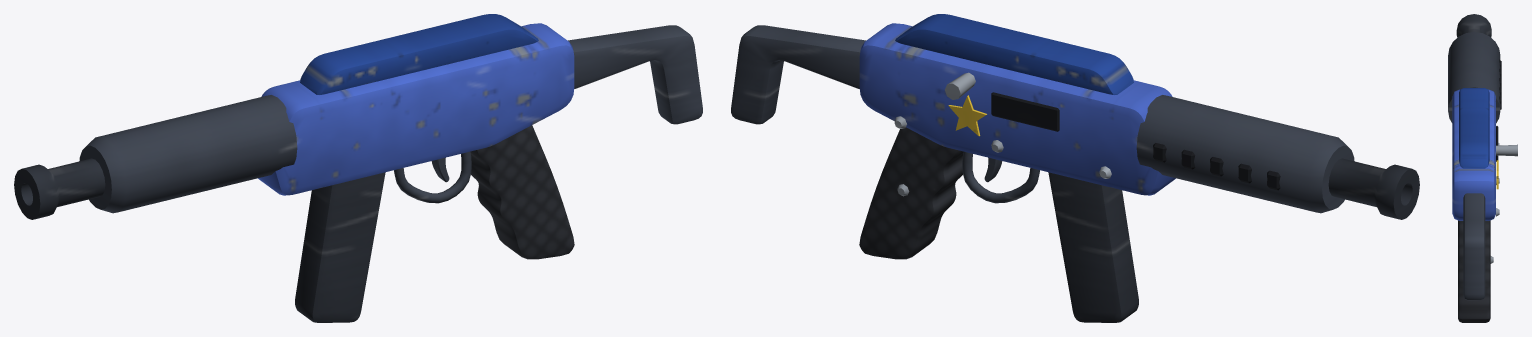
Rendered from Minigun.fbx.
3 renders of one model, left to right at view 1: azimuth 30°, elevation 25°; view 2: azimuth 150°, elevation 25°; view 3: azimuth 270°, elevation 25°, orthographic. The views are drawn at different scales.
Visible parts, largest first — view 1: Minigun; view 2: Minigun; view 3: Minigun.
Part boxes in pixels (x1,y1,x2,y2): Minigun: (14, 14, 702, 322); Minigun: (731, 14, 1419, 322); Minigun: (1448, 14, 1517, 322).
Size of the model in its own units: 1.18 by 0.4363 by 0.16.
8 materials, 8 textured.
